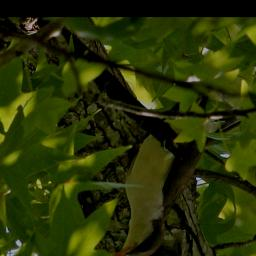Cuckoo: (106, 95, 242, 256)
